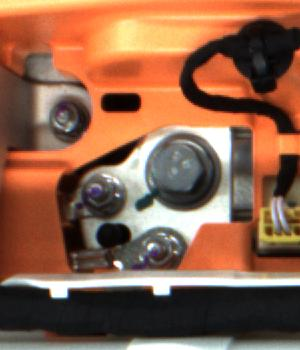nut_b: (143, 128, 221, 209)
screw_s: (80, 170, 124, 219), (135, 231, 182, 270), (50, 98, 88, 142)
